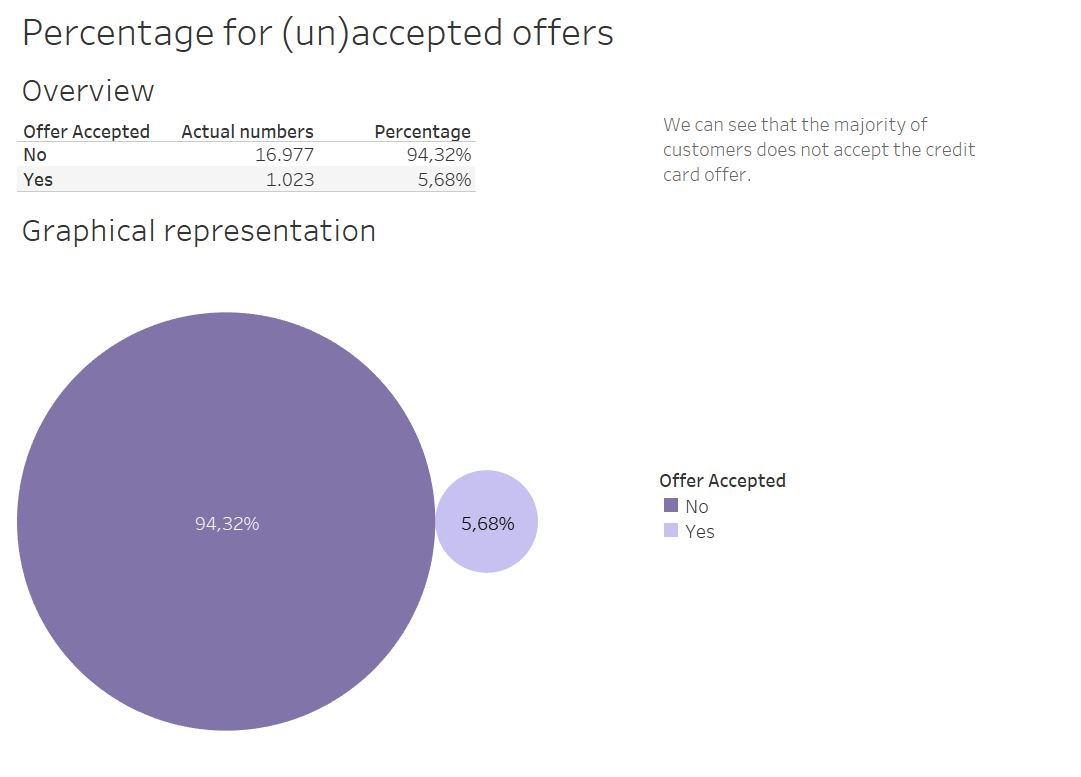

The dashboard page shown, as its layout file describes it:
{"tool":"tableau","page":{"name":"qu. 3","canvas":[1000,800],"ordinal":1},"visuals":[{"type":"title","box":[8,8,984,58]},{"type":"worksheet","title":"3.1","mark":"Automatic","rows":["Offer Accepted"],"box":[8,66,642,139.8]},{"type":"text","box":[650,66,342,178]},{"type":"worksheet","title":"3.11","mark":"Circle","box":[8,205.8,642,586.2]},{"type":"legend","title":"3.11","param":"[federated.0td3coj1ralyfw14bli0v0wkrks8].[none:Offer Accepted:nk]","box":[650,469,342,323]}]}

Visuals, with their boxes on the page's 1000x800 design canvas (x1, y1, x2, y2). These are canvas units, not pixel positions in the 1081x777 screenshot, which may show the page scaled, cropped or inside an application window:
title: 8 8 992 66
"3.1" worksheet: 8 66 650 206
text: 650 66 992 244
"3.11" worksheet (Circle marks): 8 206 650 792
"3.11" legend: 650 469 992 792
